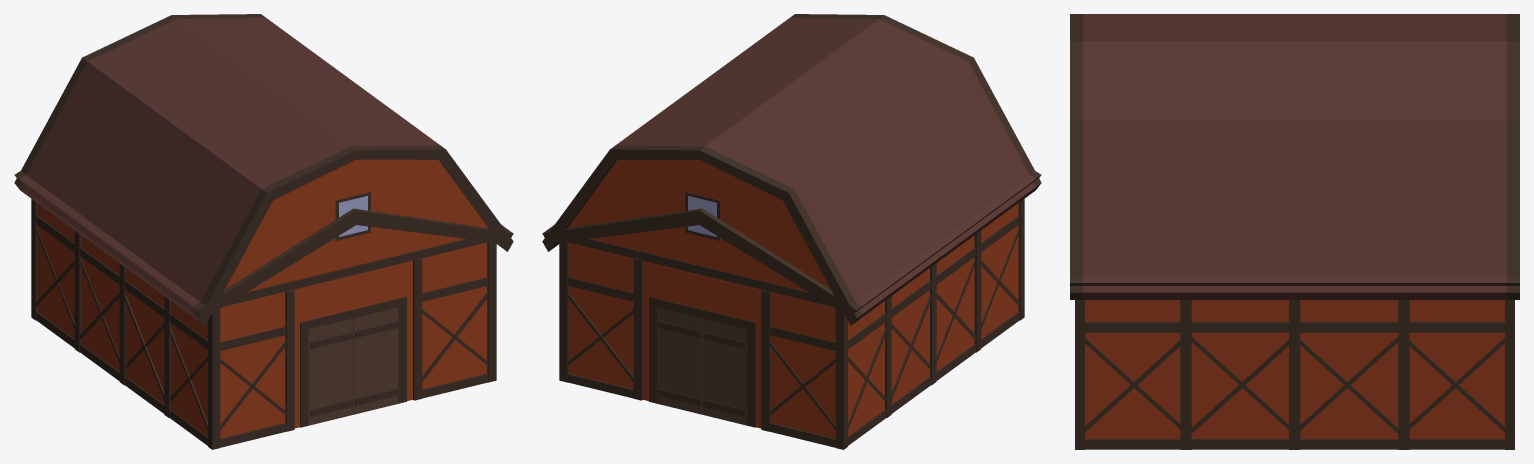
Rendered from Farm_object.fbx.
3 views of the same model, side by side, from view 1: azimuth 30°, elevation 25°; view 2: azimuth 150°, elevation 25°; view 3: azimuth 270°, elevation 25° (orthographic). The views are drawn at different scales.
Visible parts, largest first — view 1: Ambar_1, Ambar_2, Door_amb1_2, Door_amb2_2; view 2: Ambar_1, Ambar_2, Door_amb4_2, Door_amb3_2; view 3: Ambar_1, Ambar_2.
Boxes of the visible parts, x1,y1,x2,y2 form: Ambar_1: (14,14,513,341); Ambar_2: (14,171,513,449); Door_amb1_2: (353,307,398,414); Door_amb2_2: (308,318,353,425); Ambar_1: (542,14,1041,341); Ambar_2: (542,171,1041,449); Door_amb4_2: (657,307,702,414); Door_amb3_2: (702,318,747,425); Ambar_1: (1070,14,1519,299); Ambar_2: (1070,276,1519,449).
Bounding box in the file's own units: 6.73 × 5.6 × 6.85.
